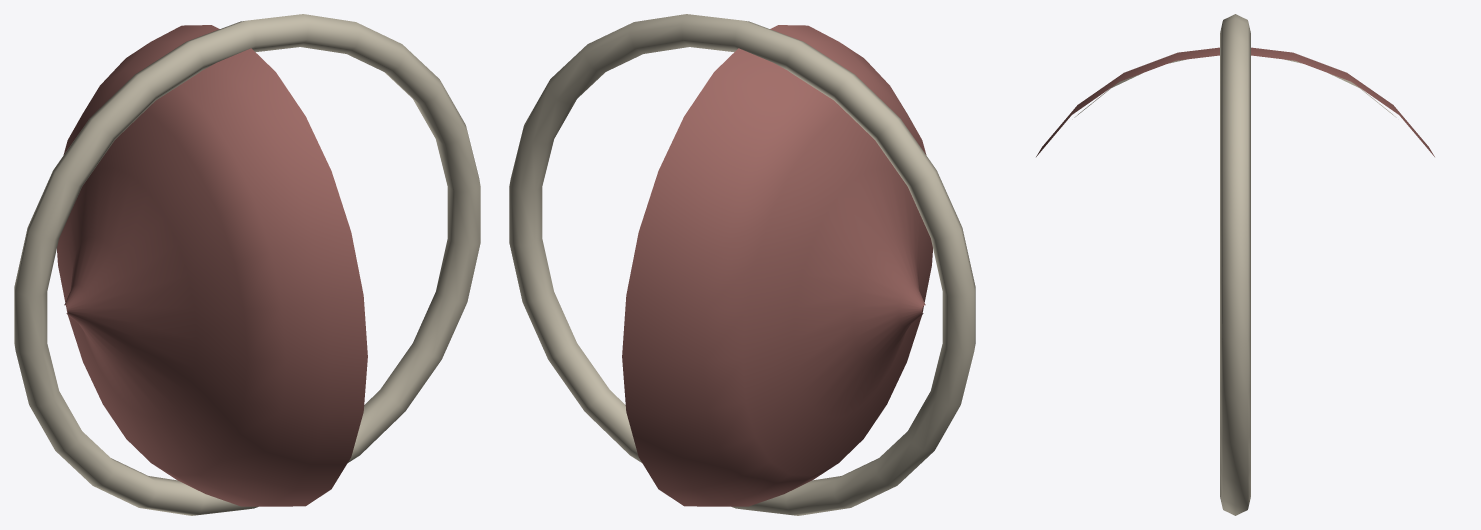
File: bonnet.glb
3 renders of one model, left to right at view 1: azimuth 30°, elevation 25°; view 2: azimuth 150°, elevation 25°; view 3: azimuth 270°, elevation 25°, orthographic. The views are drawn at different scales.
Parts seen in each view (by area): view 1: hat-bonnet; view 2: hat-bonnet; view 3: hat-bonnet.
Boxes of the visible parts, left/top/right/bottom form: hat-bonnet: left=14, top=14, right=480, bottom=515; hat-bonnet: left=509, top=14, right=975, bottom=515; hat-bonnet: left=1036, top=14, right=1434, bottom=515.
Size of the model in its own units: 0.2502 by 0.252 by 0.232.
